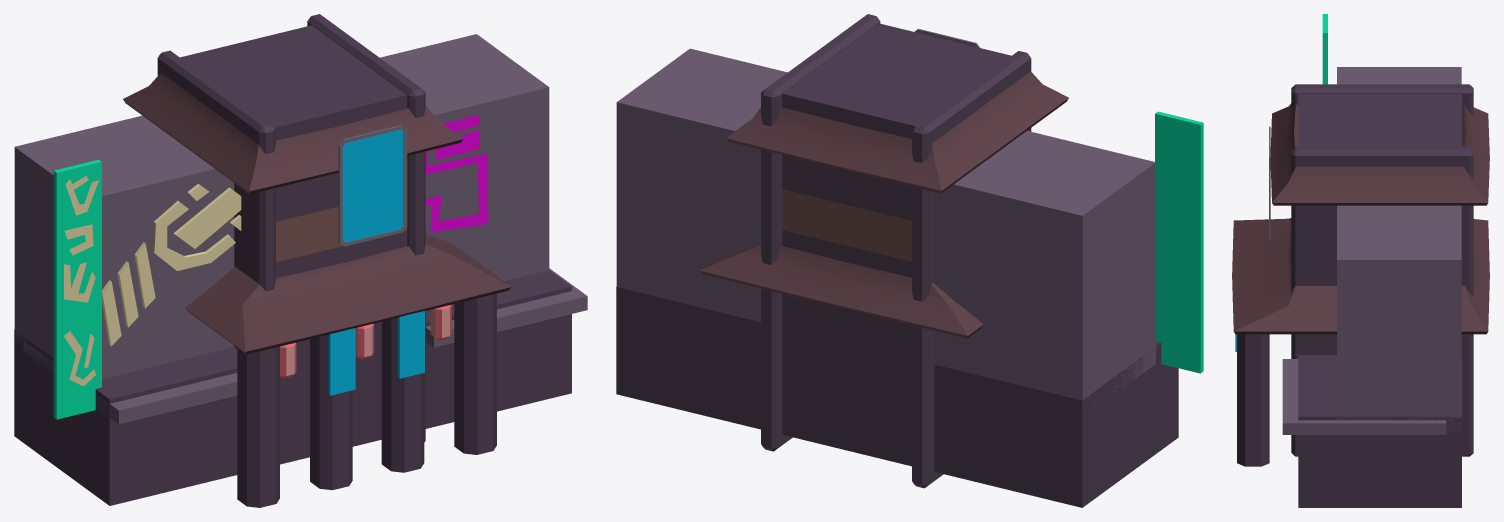
File: housr3.fbx
The picture shows the model from 3 angles, left to right: view 1: azimuth 30°, elevation 25°; view 2: azimuth 150°, elevation 25°; view 3: azimuth 270°, elevation 25°; orthographic projection. The views are drawn at different scales.
Visible parts, largest first — view 1: pCube82; view 2: pCube82; view 3: pCube82.
Part boxes in pixels (x1,y1,x2,y2): pCube82: [14, 14, 587, 507]; pCube82: [616, 14, 1203, 507]; pCube82: [1232, 14, 1489, 507].
Bounding box in the file's own units: 0.4023 × 0.2708 × 0.2067.
